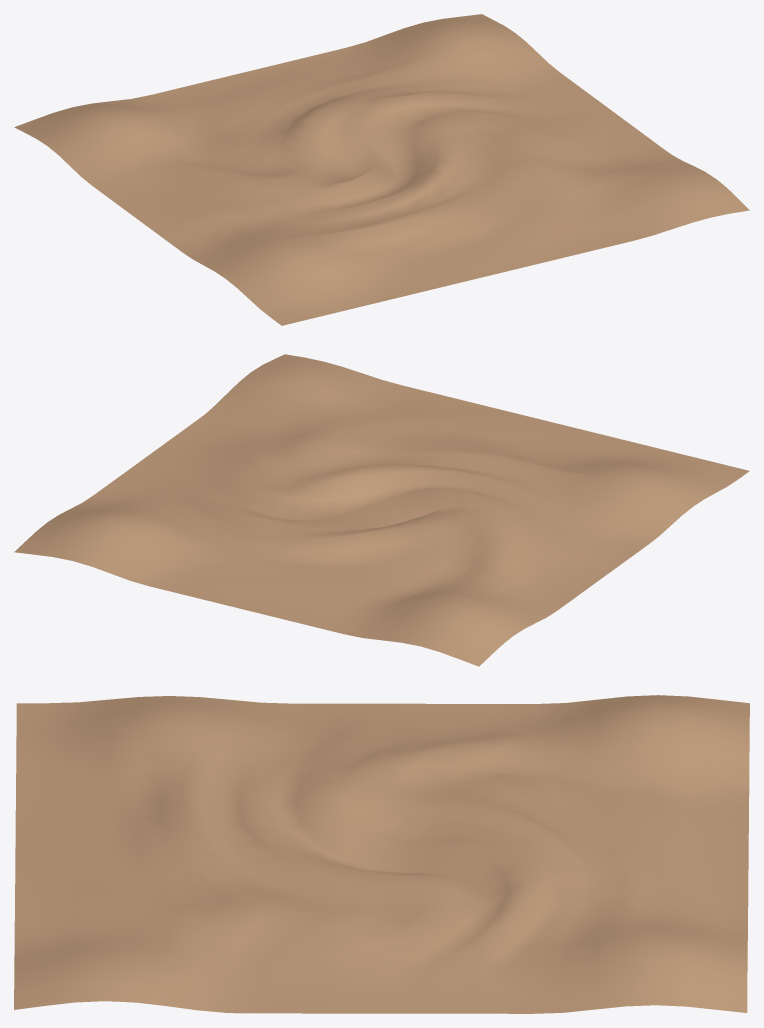
File: landscape (3).fbx
3 views of the same model, one above another, from view 1: azimuth 30°, elevation 25°; view 2: azimuth 150°, elevation 25°; view 3: azimuth 270°, elevation 25° (orthographic). The views are drawn at different scales.
Parts seen in each view (by area): view 1: Landscape.003; view 2: Landscape.003; view 3: Landscape.003.
Part boxes in pixels (x1,y1,x2,y2): Landscape.003: (14,14,749,325); Landscape.003: (14,354,749,666); Landscape.003: (14,695,749,1013).
Size of the model in its own units: 19219 by 928 by 19219.
